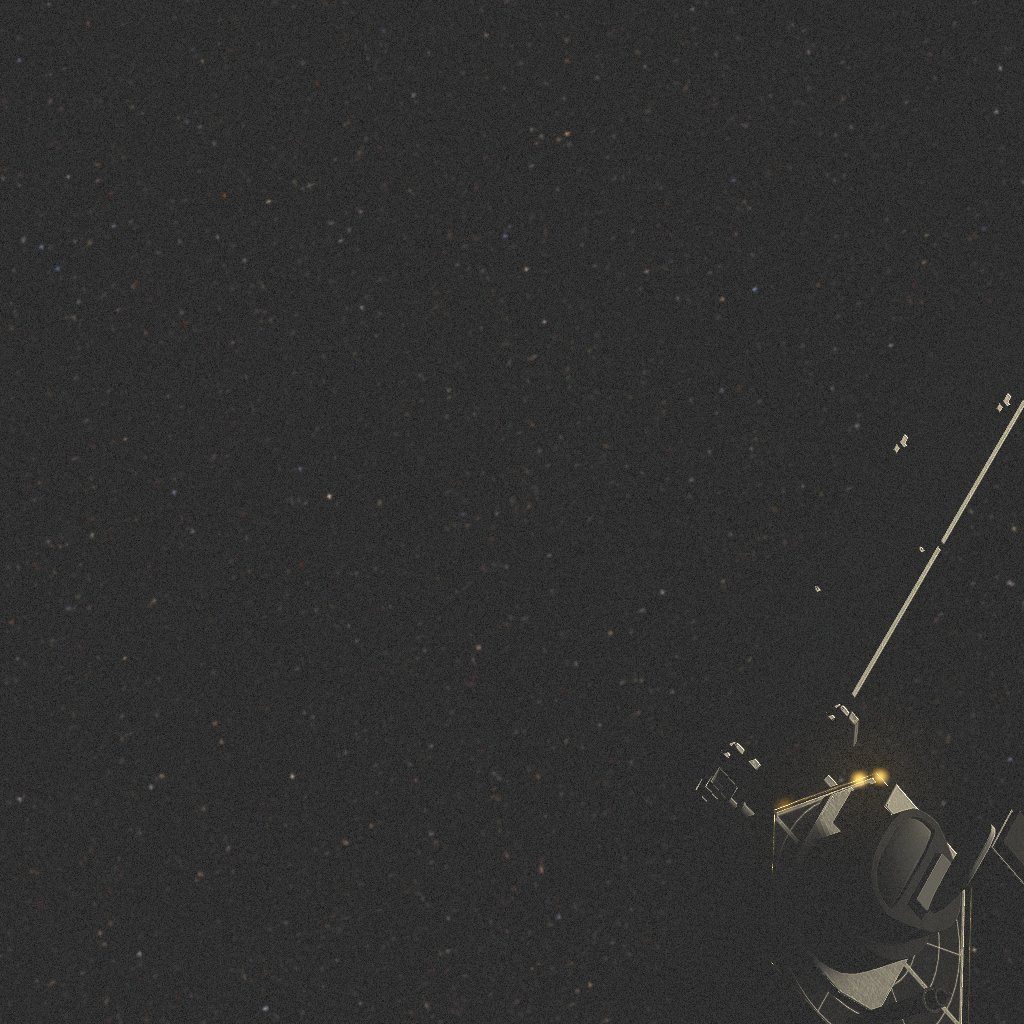earth_observation_sat_1: (666, 293, 1024, 1024)
